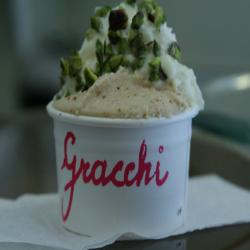icecream: (33, 54, 208, 187)
